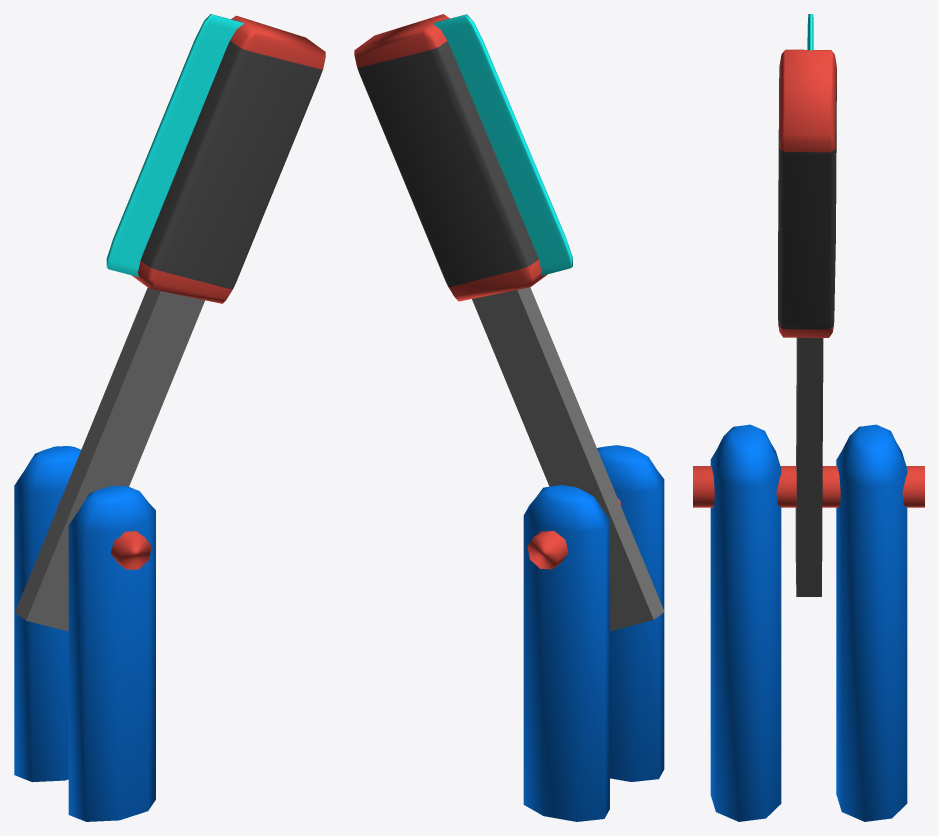
3 views of the same model, side by side, from view 1: azimuth 30°, elevation 25°; view 2: azimuth 150°, elevation 25°; view 3: azimuth 270°, elevation 25° (orthographic). The views are drawn at different scales.
Visible parts, largest first — view 1: Cube2, Cylin; view 2: Cube2, Cylin; view 3: Cylin, Cube2.
Part boxes in pixels (x1,y1,x2,y2): Cube2: (15, 14, 325, 631); Cylin: (14, 446, 155, 821); Cube2: (354, 14, 664, 631); Cylin: (523, 445, 664, 821); Cylin: (710, 424, 907, 821); Cube2: (693, 14, 924, 596).
Bounding box in the file's own units: 181 × 433 × 106.
